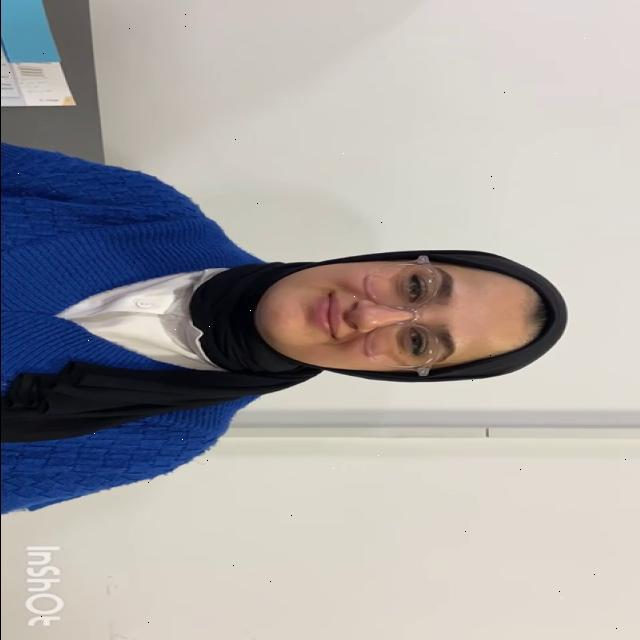happy: (260, 256, 542, 378)
